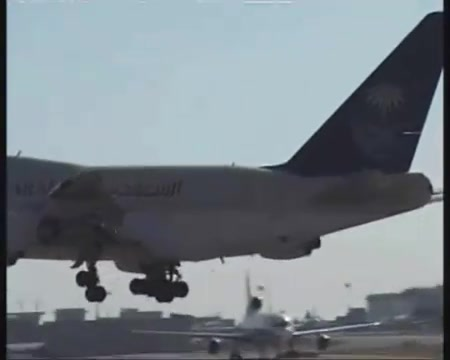aeroplane: (8, 12, 444, 304), (128, 267, 382, 360), (5, 339, 50, 357)
